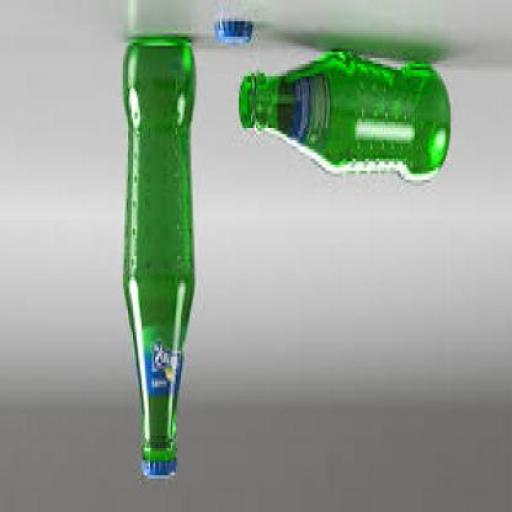glass: (121, 40, 195, 463), (237, 48, 449, 186)
metal: (214, 22, 250, 48), (140, 466, 174, 482)
